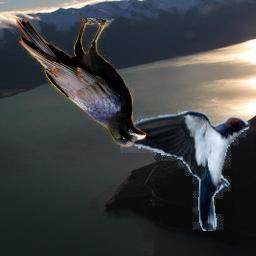Crow: (16, 18, 146, 148)
Swallow: (120, 110, 250, 231)
